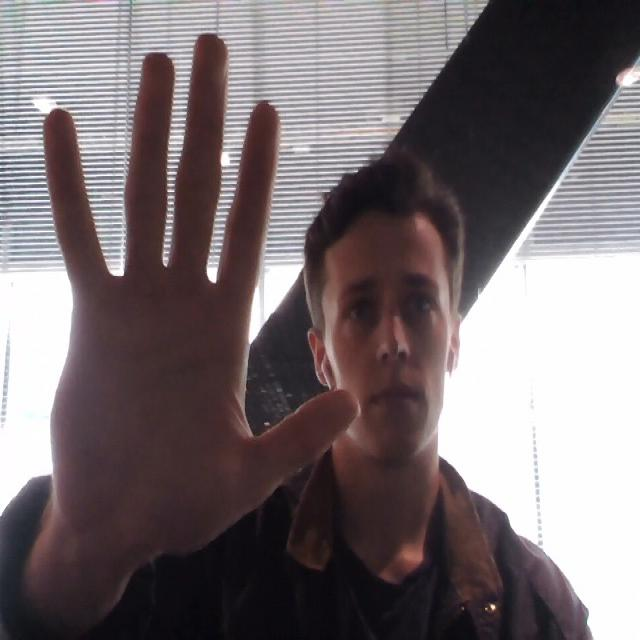backward: (33, 38, 361, 544)
